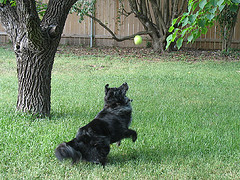tennis ball: (132, 34, 142, 46)
